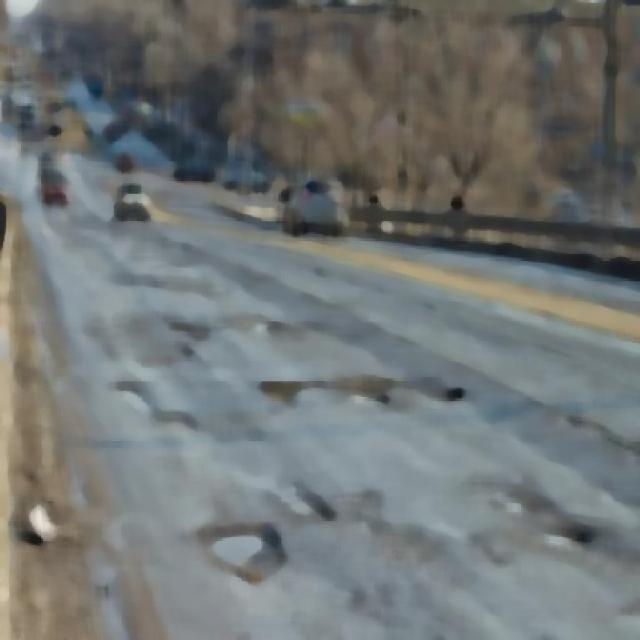Pothole: (274, 362, 486, 426), (482, 476, 583, 572), (202, 504, 308, 568)
